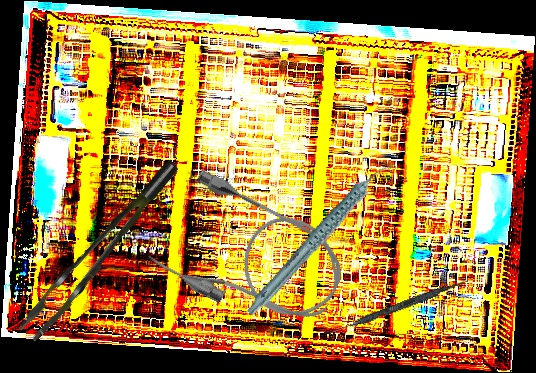Cannula: (143, 164, 358, 347)
Handpiece: (221, 160, 420, 319)
Spatula Surgical: (323, 274, 470, 341)
Tissue Forceps: (2, 159, 201, 344)
